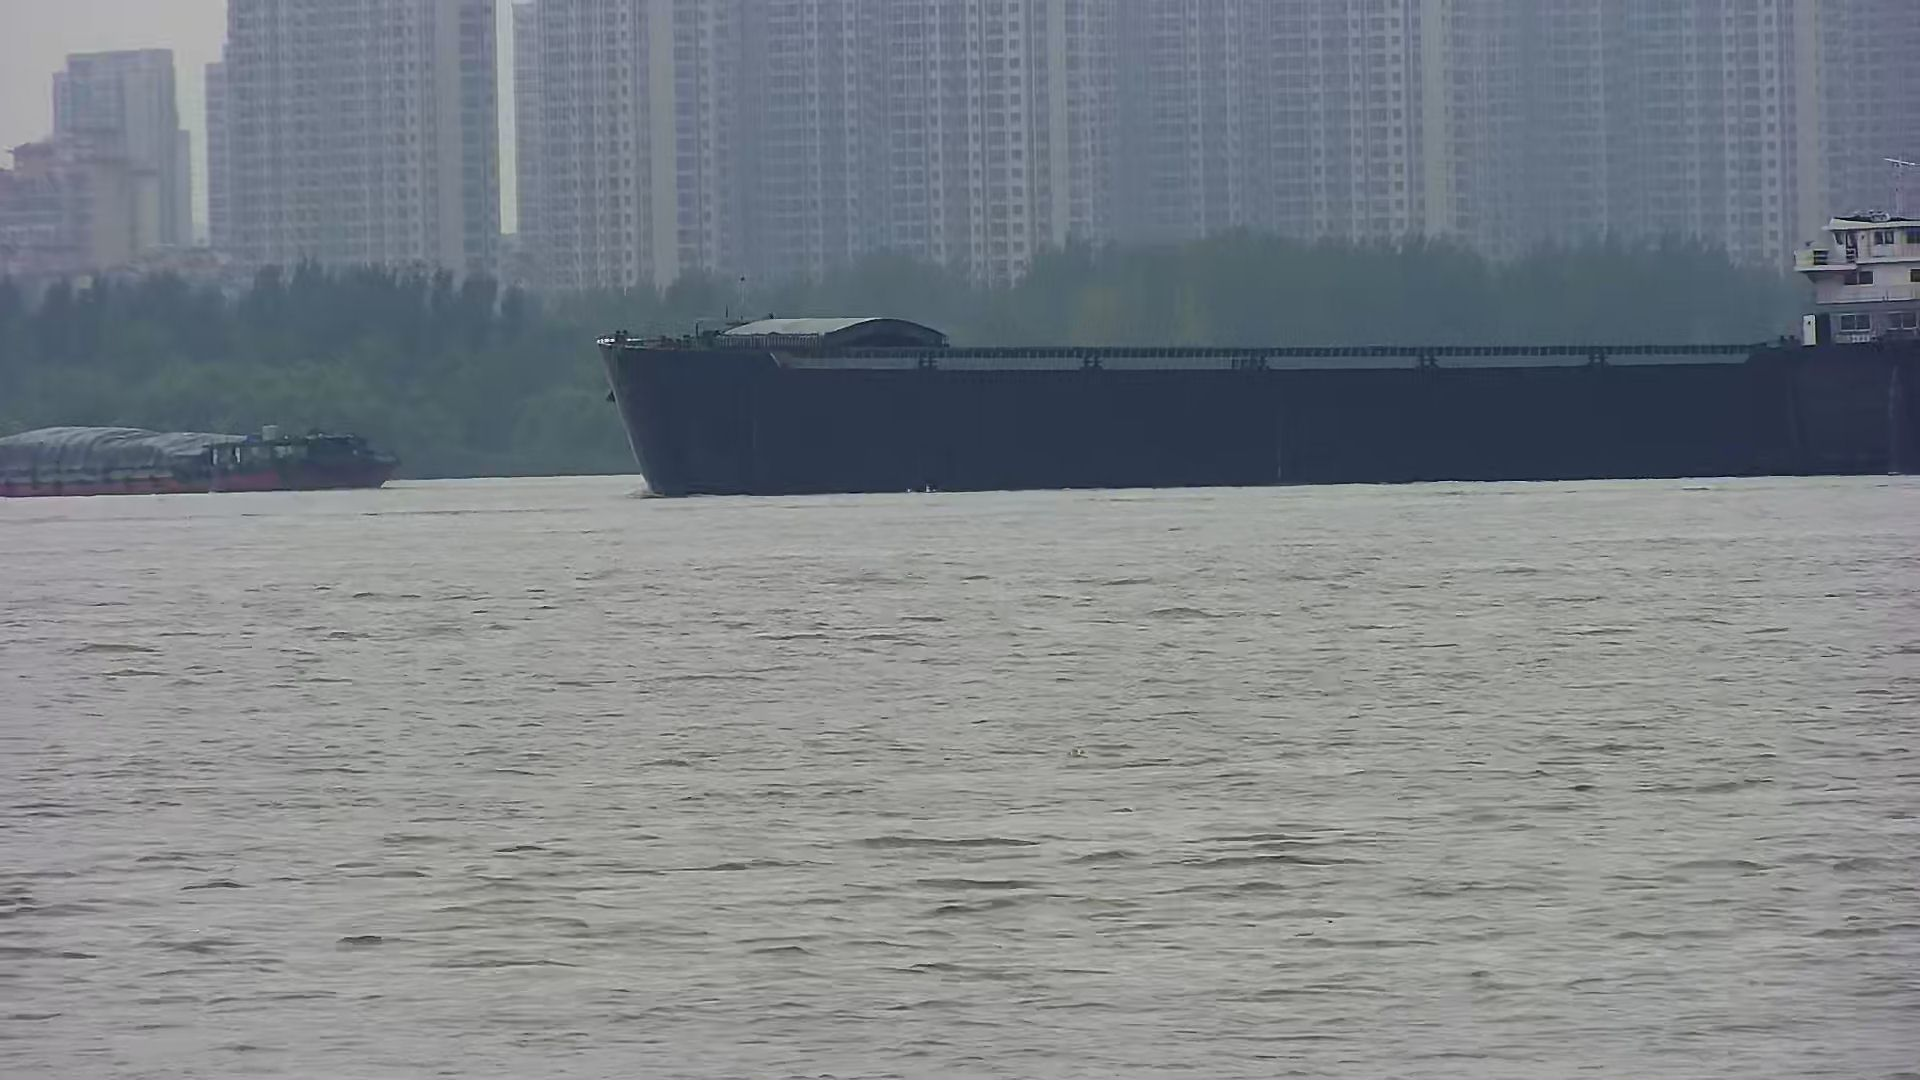ship: (591, 160, 1920, 498), (1, 415, 405, 496)
